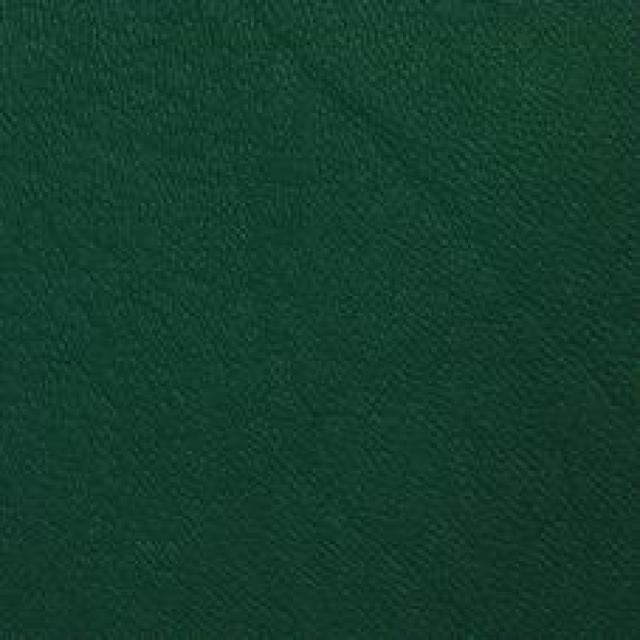Growth Marks: (53, 194, 178, 348), (250, 17, 387, 148)
